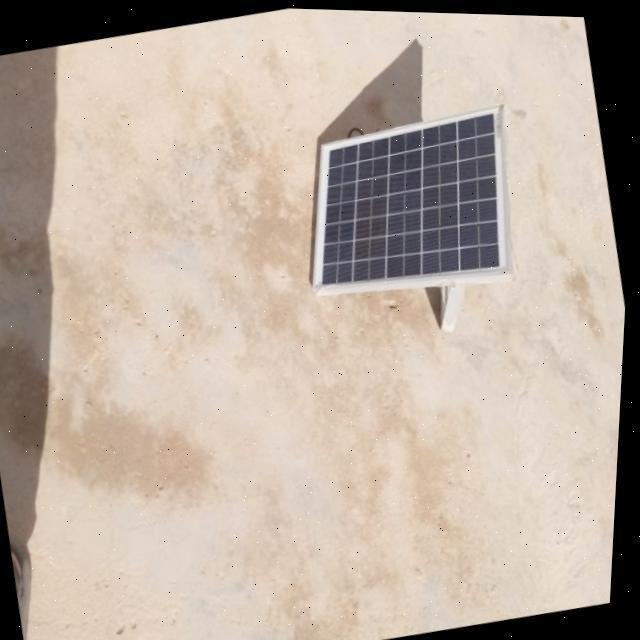Normal Solar Panel: (288, 98, 536, 310)
